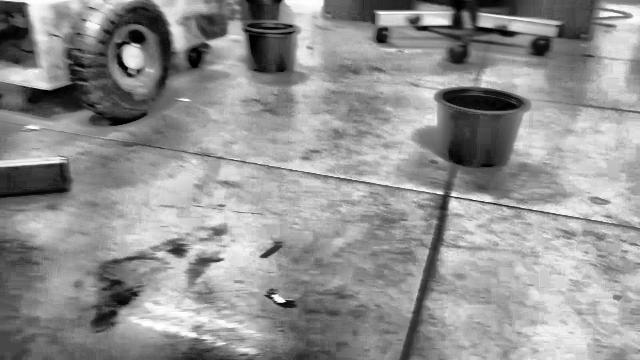pot: (438, 88, 526, 167), (244, 21, 297, 73)
